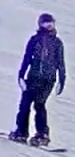snowboarder: (0, 13, 69, 153)
